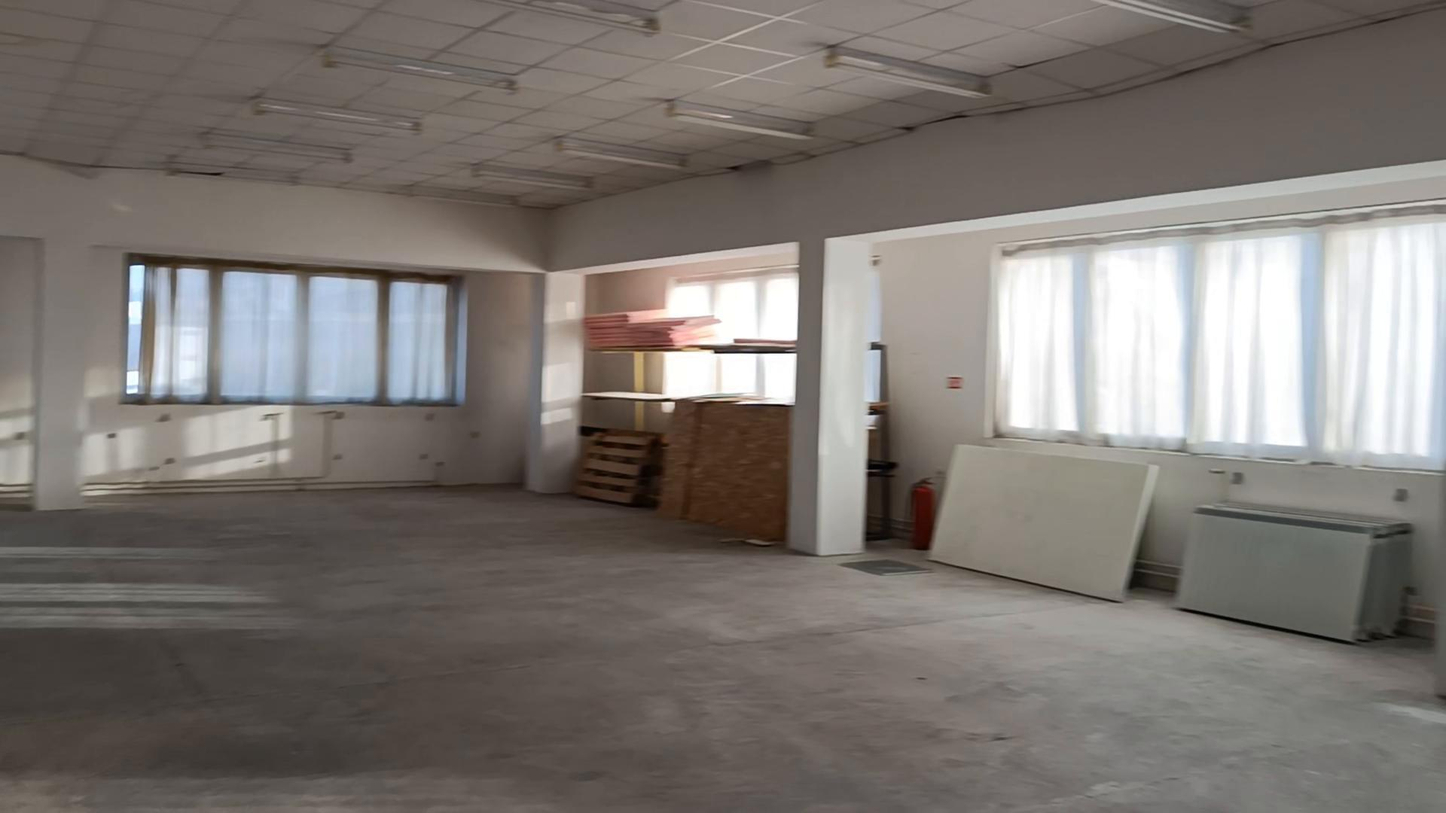ceiling: (0, 0, 1445, 207)
floor: (0, 489, 1445, 812)
wall: (3, 14, 1445, 553), (97, 261, 531, 488), (885, 242, 999, 469)
